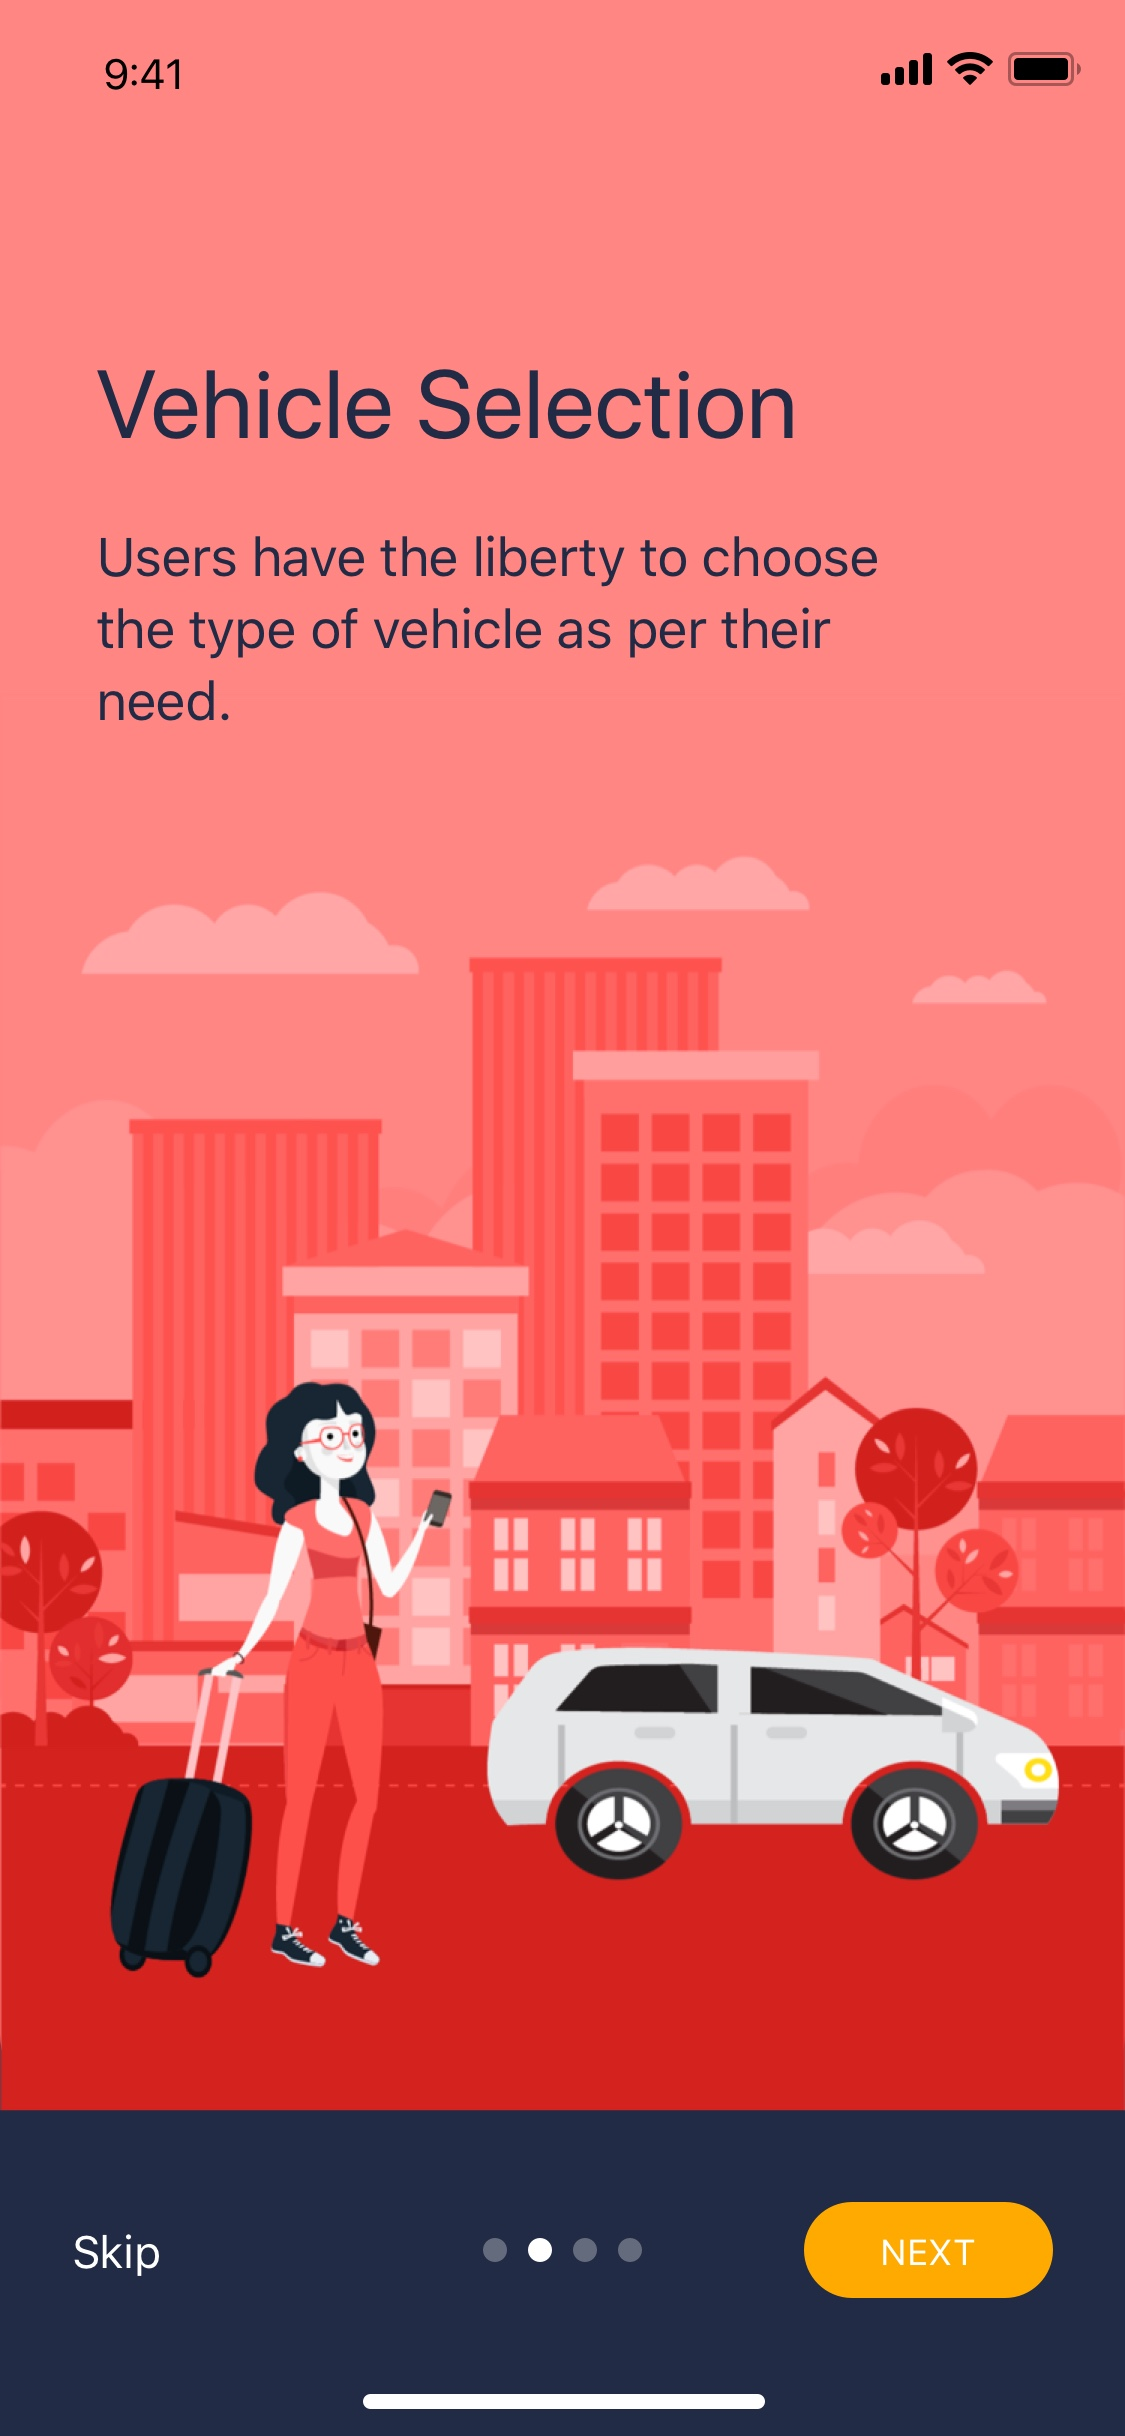Image: (2, 854, 1125, 1982)
PageIndicator: (482, 2237, 643, 2264)
Text: (96, 534, 879, 722), (96, 368, 794, 441), (75, 2232, 162, 2278)
TextButton: (803, 2201, 1054, 2299)
UpperTaskBar: (106, 51, 1083, 92)
